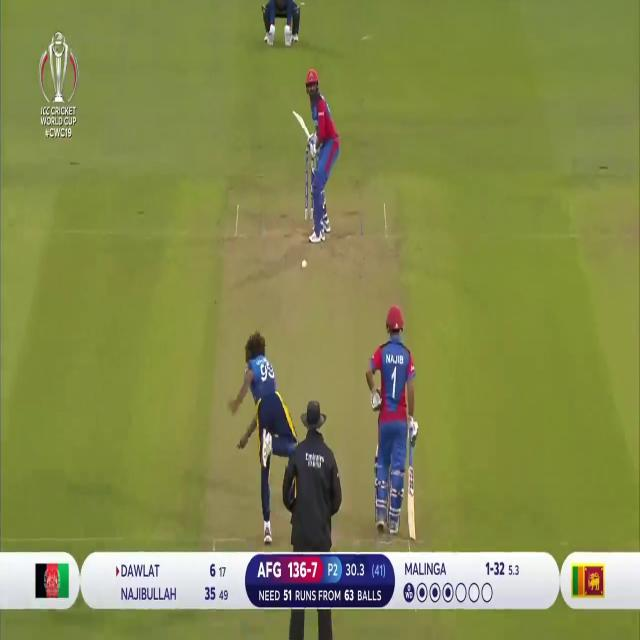ball: (302, 258, 308, 266)
